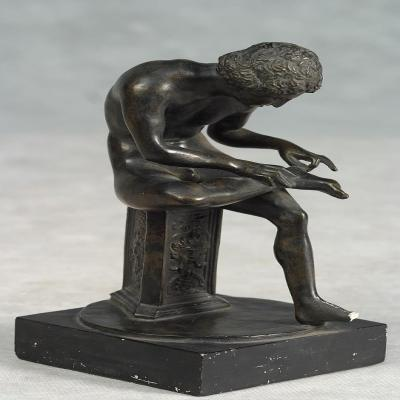sculpture: (14, 42, 387, 398)
